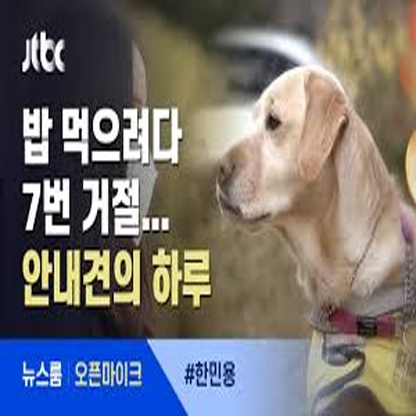guide-dog: (222, 61, 415, 336)
